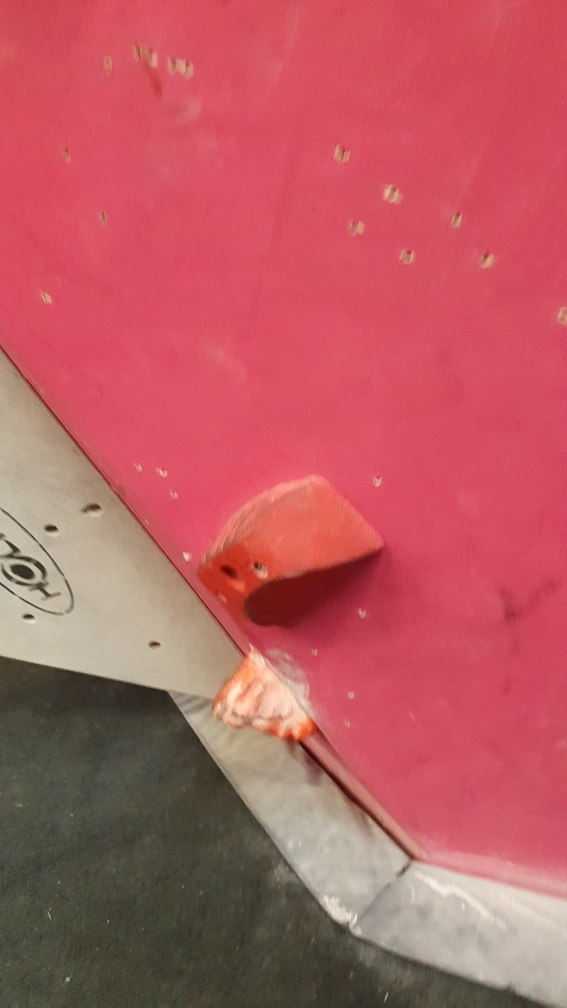Jug: (202, 641, 322, 750)
Pinch: (188, 473, 386, 631)
